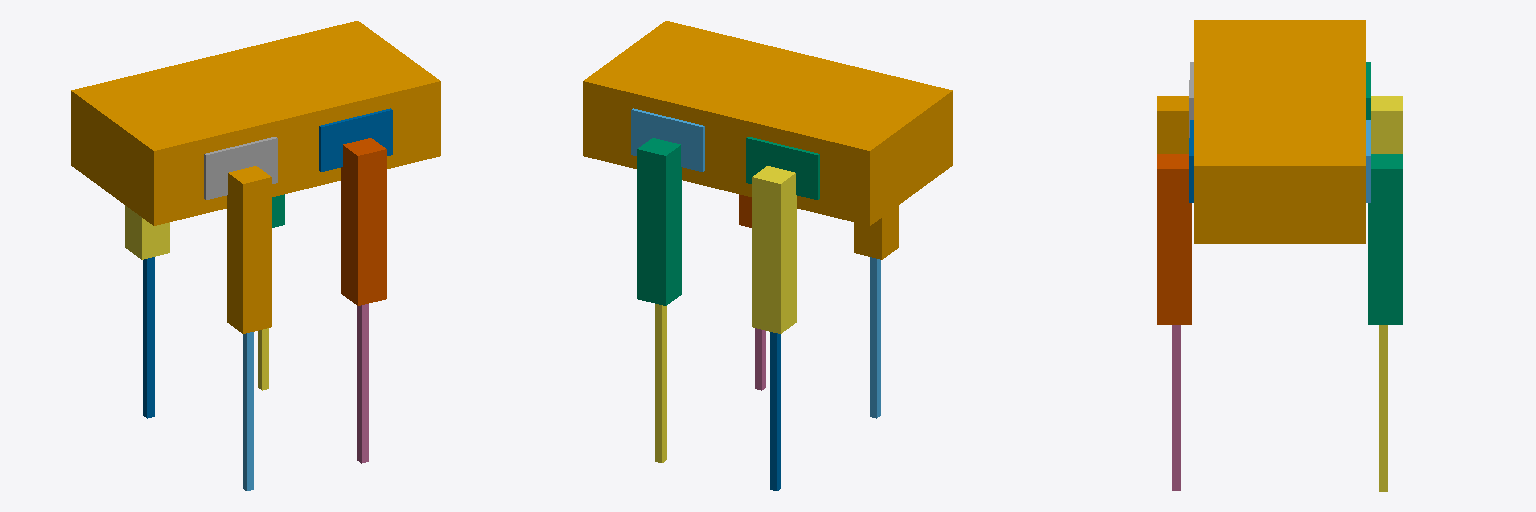
The robot description file, URDF, robot "robot":
<?xml version="1.0" ?>
<!-- =================================================================================== -->
<!-- |    This document was autogenerated by xacro from [local-path]/ros2_ws/src/servo_controller/urdf/ros2control.urdf.xacro | -->
<!-- |    EDITING THIS FILE BY HAND IS NOT RECOMMENDED                                 | -->
<!-- =================================================================================== -->
<!-- =================================================================================== -->
<!-- |    This document was autogenerated by xacro from [local-path]/ros2_ws/src/servo_controller/urdf/fixed_urdf2.urdf | -->
<!-- |    EDITING THIS FILE BY HAND IS NOT RECOMMENDED                                 | -->
<!-- =================================================================================== -->
<robot name="robot">
  <!-- Gazebo plugin for ros2_control -->
  <gazebo>
    <plugin filename="libgazebo_ros2_control.so" name="gazebo_ros2_control">
      <parameters>[local-path]/ros2_ws/install/servo_controller/share/servo_controller/config/robot_controllers.yaml</parameters>
    </plugin>
  </gazebo>
  <link name="base_link">
    <visual>
      <geometry>
        <box size="0.254 0.127 0.0635"/>
      </geometry>
    </visual>
    <collision>
      <geometry>
        <box size="0.254 0.127 0.0635"/>
      </geometry>
    </collision>
    <inertial>
      <origin rpy="0.000 0.000 0.000" xyz="0.000 0.000 0.000"/>
      <mass value="2.000"/>
      <inertia ixx="0.03562" ixy="0.00000" ixz="0.00000" iyy="0.04262" iyz="0.00000" izz="0.04508"/>
    </inertial>
  </link>
  <!-- FL -->
  <joint name="hip_fl" type="revolute">
    <limit effort="100" lower="-0.2" upper="0.4" velocity="10"/>
    <origin rpy="0 0 0" xyz="0.0508 0.0508 0"/>
    <parent link="base_link"/>
    <child link="hipbone_fl"/>
    <axis xyz="0 1 0"/>
  </joint>
  <link name="hipbone_fl">
    <visual>
      <origin rpy="0 0 0" xyz="0.0 0.0 0"/>
      <geometry>
        <box size="0.0635 0.03175 0.0381"/>
      </geometry>
    </visual>
    <collision>
      <origin rpy="0 0 0" xyz="0.0 0.0 0"/>
      <geometry>
        <box size="0.0635 0.03175 0.0381"/>
      </geometry>
    </collision>
    <inertial>
      <origin rpy="0.000 0.000 0.000" xyz="0.000 0.000 0.000"/>
      <mass value="0.233"/>
      <inertia ixx="0.00216" ixy="-0.00001" ixz="0.00001" iyy="0.00216" iyz="0.00001" izz="0.00211"/>
    </inertial>
  </link>
  <joint name="shoulder_fl" type="revolute">
    <limit effort="100" lower="-0.1" upper="0.5" velocity="10"/>
    <origin rpy="0 0 0" xyz="0 0 0"/>
    <axis xyz="0 1 0"/>
    <parent link="hipbone_fl"/>
    <child link="femur_fl"/>
  </joint>
  <link name="femur_fl">
    <visual>
      <origin rpy="0 0 0" xyz="0.0 0.027 -0.0635"/>
      <geometry>
        <box size="0.0254 0.0254 0.127"/>
      </geometry>
    </visual>
    <collision>
      <origin rpy="0 0 0" xyz="0.0 0.027 -0.0635"/>
      <geometry>
        <box size="0.0254 0.0254 0.127"/>
      </geometry>
    </collision>
    <inertial>
      <origin rpy="0.000 0.000 0.000" xyz="0.000 0.000 0.000"/>
      <mass value="0.084"/>
      <inertia ixx="0.00414" ixy="0.00000" ixz="0.00000" iyy="0.00410" iyz="0.00006" izz="0.00386"/>
    </inertial>
  </link>
  <joint name="knee_fl" type="revolute">
    <limit effort="100" lower="-0.5" upper="2" velocity="10"/>
    <origin rpy="0 0 1.57" xyz="0 0 -0.127"/>
    <parent link="femur_fl"/>
    <child link="tibia_fl"/>
  </joint>
  <link name="tibia_fl">
    <visual>
      <origin rpy="0 0 0" xyz="0.0254 0.0 -0.06985"/>
      <geometry>
        <box size="0.00635 0.00635 0.1397"/>
      </geometry>
    </visual>
    <collision>
      <origin rpy="0 0 0" xyz="0.0254 0.0 -0.06985"/>
      <geometry>
        <box size="0.00635 0.00635 0.1397"/>
      </geometry>
    </collision>
    <inertial>
      <origin rpy="0.000 0.000 0.000" xyz="0.000 0.000 0.000"/>
      <mass value="0.034"/>
      <inertia ixx="0.00159" ixy="0.00000" ixz="-0.00001" iyy="0.00159" iyz="0.00000" izz="0.00147"/>
    </inertial>
  </link>
  <!-- FR -->
  <joint name="hip_fr" type="revolute">
    <limit effort="100" lower="-0.2" upper="0.4" velocity="10"/>
    <origin rpy="0 0 3.14" xyz="0.0508 -0.0508 0"/>
    <parent link="base_link"/>
    <child link="hipbone_fr"/>
    <axis xyz="0 1 0"/>
  </joint>
  <link name="hipbone_fr">
    <visual>
      <origin rpy="0 0 0" xyz=" 0.0 0.0 0"/>
      <geometry>
        <box size="0.0635 0.03175 0.0381"/>
      </geometry>
    </visual>
    <collision>
      <origin rpy="0 0 0" xyz=" 0.0 0.0 0"/>
      <geometry>
        <box size="0.0635 0.03175 0.0381"/>
      </geometry>
    </collision>
    <inertial>
      <origin rpy="0.000 0.000 0.000" xyz="0.000 0.000 0.000"/>
      <mass value="0.233"/>
      <inertia ixx="0.00216" ixy="0.00001" ixz="0.00001" iyy="0.00216" iyz="-0.00001" izz="0.00211"/>
    </inertial>
  </link>
  <joint name="shoulder_fr" type="revolute">
    <limit effort="100" lower="-0.5" upper="0.1" velocity="10"/>
    <origin rpy="0 0 0" xyz="0 0 0"/>
    <axis xyz="0 1 0"/>
    <parent link="hipbone_fr"/>
    <child link="femur_fr"/>
  </joint>
  <link name="femur_fr">
    <visual>
      <origin rpy="0 0 0" xyz="0.0 0.027 -0.0635"/>
      <geometry>
        <box size="0.0254 0.0254 0.127"/>
      </geometry>
    </visual>
    <collision>
      <origin rpy="0 0 0" xyz="0.0 0.027 -0.0635"/>
      <geometry>
        <box size="0.0254 0.0254 0.127"/>
      </geometry>
    </collision>
    <inertial>
      <origin rpy="0.000 0.000 0.000" xyz="0.000 0.000 0.000"/>
      <mass value="0.084"/>
      <inertia ixx="0.00414" ixy="0.00000" ixz="0.00000" iyy="0.00410" iyz="-0.00006" izz="0.00386"/>
    </inertial>
  </link>
  <joint name="knee_fr" type="revolute">
    <limit effort="100" lower="-0.5" upper="2" velocity="10"/>
    <origin rpy="0 0 1.57" xyz="0 0 -0.127"/>
    <parent link="femur_fr"/>
    <child link="tibia_fr"/>
  </joint>
  <link name="tibia_fr">
    <visual>
      <origin rpy="0 0 0" xyz="0.0254 0.0 -0.06985"/>
      <geometry>
        <box size="0.00635 0.00635 0.1397"/>
      </geometry>
    </visual>
    <collision>
      <origin rpy="0 0 0" xyz="0.0254 0.0 -0.06985"/>
      <geometry>
        <box size="0.00635 0.00635 0.1397"/>
      </geometry>
    </collision>
    <inertial>
      <origin rpy="0.000 0.000 0.000" xyz="0.000 0.000 0.000"/>
      <mass value="0.034"/>
      <inertia ixx="0.00159" ixy="0.00000" ixz="-0.00001" iyy="0.00159" iyz="0.00000" izz="0.00147"/>
    </inertial>
  </link>
  <!-- BR -->
  <joint name="hip_br" type="revolute">
    <limit effort="100" lower="-0.2" upper="0.4" velocity="10"/>
    <origin rpy="0 0 3.14" xyz="-0.0508 -0.0508 0"/>
    <parent link="base_link"/>
    <child link="hipbone_br"/>
    <axis xyz="0 1 0"/>
  </joint>
  <link name="hipbone_br">
    <visual>
      <origin rpy="0 0 0" xyz=" 0.0 0.0 0"/>
      <geometry>
        <box size="0.0635 0.03175 0.0381"/>
      </geometry>
    </visual>
    <collision>
      <origin rpy="0 0 0" xyz=" 0.0 0.0 0"/>
      <geometry>
        <box size="0.0635 0.03175 0.0381"/>
      </geometry>
    </collision>
    <inertial>
      <origin rpy="0.000 0.000 0.000" xyz="0.000 0.000 0.000"/>
      <mass value="0.233"/>
      <inertia ixx="0.00216" ixy="-0.00001" ixz="-0.00001" iyy="0.00216" iyz="-0.00001" izz="0.00211"/>
    </inertial>
  </link>
  <joint name="shoulder_br" type="revolute">
    <limit effort="100" lower="-0.5" upper="0.1" velocity="10"/>
    <origin rpy="0 0 0" xyz="0 0 0"/>
    <axis xyz="0 1 0"/>
    <parent link="hipbone_br"/>
    <child link="femur_br"/>
  </joint>
  <link name="femur_br">
    <visual>
      <origin rpy="0 0 0" xyz="0.0 0.027 -0.0635"/>
      <geometry>
        <box size="0.0254 0.0254 0.127"/>
      </geometry>
    </visual>
    <collision>
      <origin rpy="0 0 0" xyz="0.0 0.027 -0.0635"/>
      <geometry>
        <box size="0.0254 0.0254 0.127"/>
      </geometry>
    </collision>
    <inertial>
      <origin rpy="0.000 0.000 0.000" xyz="0.000 0.000 0.000"/>
      <mass value="0.084"/>
      <inertia ixx="0.00414" ixy="0.00000" ixz="0.00000" iyy="0.00410" iyz="-0.00006" izz="0.00386"/>
    </inertial>
  </link>
  <joint name="knee_br" type="revolute">
    <limit effort="100" lower="-0.5" upper="2" velocity="10"/>
    <origin rpy="0 0 1.57" xyz="0 0 -0.127"/>
    <parent link="femur_br"/>
    <child link="tibia_br"/>
  </joint>
  <link name="tibia_br">
    <visual>
      <origin rpy="0 0 0" xyz="0.0254 0.0 -0.06985"/>
      <geometry>
        <box size="0.00635 0.00635 0.1397"/>
      </geometry>
    </visual>
    <collision>
      <origin rpy="0 0 0" xyz="0.0254 0.0 -0.06985"/>
      <geometry>
        <box size="0.00635 0.00635 0.1397"/>
      </geometry>
    </collision>
    <inertial>
      <origin rpy="0.000 0.000 0.000" xyz="0.000 0.000 0.000"/>
      <mass value="0.034"/>
      <inertia ixx="0.00159" ixy="0.00000" ixz="-0.00001" iyy="0.00159" iyz="0.00000" izz="0.00147"/>
    </inertial>
  </link>
  <!-- BL -->
  <joint name="hip_bl" type="revolute">
    <limit effort="100" lower="-0.2" upper="0.4" velocity="10"/>
    <origin rpy="0 0 0" xyz="-0.0508 0.0508 0"/>
    <parent link="base_link"/>
    <child link="hipbone_bl"/>
    <axis xyz="0 1 0"/>
  </joint>
  <link name="hipbone_bl">
    <visual>
      <origin rpy="0 0 0" xyz=" 0.0 0.0 0"/>
      <geometry>
        <box size="0.0635 0.03175 0.0381"/>
      </geometry>
    </visual>
    <collision>
      <origin rpy="0 0 0" xyz=" 0.0 0.0 0"/>
      <geometry>
        <box size="0.0635 0.03175 0.0381"/>
      </geometry>
    </collision>
    <inertial>
      <origin rpy="0.000 0.000 0.000" xyz="0.000 0.000 0.000"/>
      <mass value="0.233"/>
      <inertia ixx="0.00216" ixy="0.00001" ixz="-0.00001" iyy="0.00216" iyz="0.00001" izz="0.00211"/>
    </inertial>
  </link>
  <joint name="shoulder_bl" type="revolute">
    <limit effort="100" lower="-0.1" upper="0.5" velocity="10"/>
    <origin rpy="0 0 0" xyz="0 0 0"/>
    <axis xyz="0 1 0"/>
    <parent link="hipbone_bl"/>
    <child link="femur_bl"/>
  </joint>
  <link name="femur_bl">
    <visual>
      <origin rpy="0 0 0" xyz="0.0 0.027 -0.0635"/>
      <geometry>
        <box size="0.0254 0.0254 0.127"/>
      </geometry>
    </visual>
    <collision>
      <origin rpy="0 0 0" xyz="0.0 0.027 -0.0635"/>
      <geometry>
        <box size="0.0254 0.0254 0.127"/>
      </geometry>
    </collision>
    <inertial>
      <origin rpy="0.000 0.000 0.000" xyz="0.000 0.000 0.000"/>
      <mass value="0.084"/>
      <inertia ixx="0.00414" ixy="0.00000" ixz="0.00000" iyy="0.00410" iyz="0.00006" izz="0.00386"/>
    </inertial>
  </link>
  <joint name="knee_bl" type="revolute">
    <limit effort="100" lower="-0.5" upper="2" velocity="10"/>
    <origin rpy="0 0 1.57" xyz="0 0 -0.127"/>
    <parent link="femur_bl"/>
    <child link="tibia_bl"/>
  </joint>
  <link name="tibia_bl">
    <visual>
      <origin rpy="0 0 0" xyz="0.0254 0.0 -0.06985"/>
      <geometry>
        <box size="0.00635 0.00635 0.1397"/>
      </geometry>
    </visual>
    <collision>
      <origin rpy="0 0 0" xyz="0.0254 0.0 -0.06985"/>
      <geometry>
        <box size="0.00635 0.00635 0.1397"/>
      </geometry>
    </collision>
    <inertial>
      <origin rpy="0.000 0.000 0.000" xyz="0.000 0.000 0.000"/>
      <mass value="0.034"/>
      <inertia ixx="0.00159" ixy="0.00000" ixz="-0.00001" iyy="0.00159" iyz="0.00000" izz="0.00147"/>
    </inertial>
  </link>
  <!-- ros2_control Configuration -->
  <ros2_control name="GazeboSystem" type="system">
    <hardware>
      <plugin>gazebo_ros2_control/GazeboSystem</plugin>
    </hardware>
    <!-- Define all the joints that will be controlled -->
    <joint name="hip_fl">
      <state_interface name="position"/>
      <command_interface name="position"/>
    </joint>
    <joint name="shoulder_fl">
      <state_interface name="position"/>
      <command_interface name="position"/>
    </joint>
    <joint name="knee_fl">
      <state_interface name="position"/>
      <command_interface name="position"/>
    </joint>
    <joint name="hip_fr">
      <state_interface name="position"/>
      <command_interface name="position"/>
    </joint>
    <joint name="shoulder_fr">
      <state_interface name="position"/>
      <command_interface name="position"/>
    </joint>
    <joint name="knee_fr">
      <state_interface name="position"/>
      <command_interface name="position"/>
    </joint>
    <joint name="hip_br">
      <state_interface name="position"/>
      <command_interface name="position"/>
    </joint>
    <joint name="shoulder_br">
      <state_interface name="position"/>
      <command_interface name="position"/>
    </joint>
    <joint name="knee_br">
      <state_interface name="position"/>
      <command_interface name="position"/>
    </joint>
    <joint name="hip_bl">
      <state_interface name="position"/>
      <command_interface name="position"/>
    </joint>
    <joint name="shoulder_bl">
      <state_interface name="position"/>
      <command_interface name="position"/>
    </joint>
    <joint name="knee_bl">
      <state_interface name="position"/>
      <command_interface name="position"/>
    </joint>
  </ros2_control>
  <!-- <xacro:include filename="example_gazebo.xacro" /> -->
</robot>

--- What the picture shows (computed from the rendered views, not written in the file) ---
Views: 3 orthographic renders of the robot side by side, from view 1: azimuth 30°, elevation 25°; view 2: azimuth 150°, elevation 25°; view 3: azimuth 270°, elevation 25°.
Model robot with 13 links and 12 joints (12 revolute), rooted at base_link, posed all joints at 0.
Links seen in each view (by area): view 1: base_link, femur_fr, femur_br, hipbone_fr, hipbone_br, tibia_bl, tibia_fr, tibia_br, femur_bl, tibia_fl; view 2: base_link, femur_fl, femur_bl, hipbone_fl, hipbone_bl, tibia_fl, tibia_br, tibia_bl, femur_br, tibia_fr; view 3: base_link, femur_fl, femur_fr, femur_br, femur_bl, tibia_fl, tibia_fr.
Boxes of the visible links, box(x1,y1,x2,y2) form: base_link: box(71, 21, 440, 225); femur_fr: box(341, 138, 386, 305); femur_br: box(227, 166, 271, 333); hipbone_fr: box(319, 108, 392, 171); hipbone_br: box(204, 137, 277, 199); tibia_bl: box(143, 257, 154, 418); tibia_fr: box(357, 304, 368, 463); tibia_br: box(243, 332, 253, 490); femur_bl: box(125, 205, 169, 259); tibia_fl: box(258, 328, 268, 390); base_link: box(583, 21, 952, 225); femur_fl: box(637, 138, 681, 305); femur_bl: box(752, 166, 796, 333); hipbone_fl: box(631, 108, 704, 171); hipbone_bl: box(746, 137, 819, 199); tibia_fl: box(655, 304, 666, 462); tibia_br: box(870, 257, 880, 418); tibia_bl: box(770, 332, 780, 490); femur_br: box(854, 205, 898, 259); tibia_fr: box(755, 328, 765, 390); base_link: box(1194, 20, 1365, 243); femur_fl: box(1368, 154, 1402, 324); femur_fr: box(1157, 154, 1191, 324); femur_br: box(1157, 96, 1188, 153); femur_bl: box(1371, 96, 1402, 153); tibia_fl: box(1379, 325, 1387, 491); tibia_fr: box(1172, 325, 1180, 490).
Bounding box of the posed robot: 0.254 × 0.181 × 0.2984 m (x, y, z).
Geometry: primitives only (box / cylinder / sphere), no mesh files.
